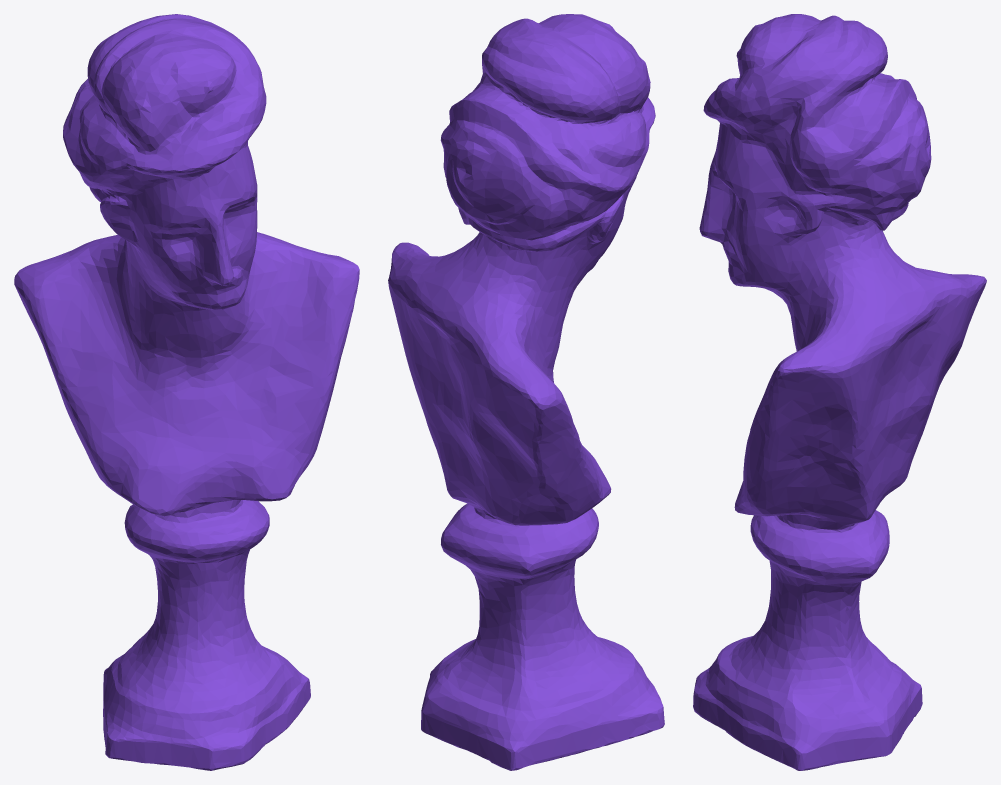
The picture shows the model from 3 angles, left to right: view 1: azimuth 30°, elevation 25°; view 2: azimuth 150°, elevation 25°; view 3: azimuth 270°, elevation 25°; orthographic projection. The views are drawn at different scales.
Visible parts, largest first — view 1: world; view 2: world; view 3: world.
Part boxes in pixels (x1,y1,x2,y2): world: [14, 14, 359, 770]; world: [388, 14, 664, 770]; world: [693, 14, 986, 770].
Size of the model in its own units: 0.753 by 1.95 by 0.7571.
